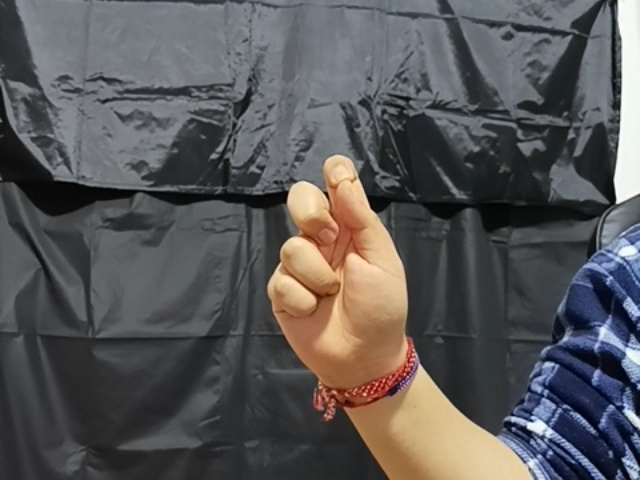T: (264, 151, 407, 373)
